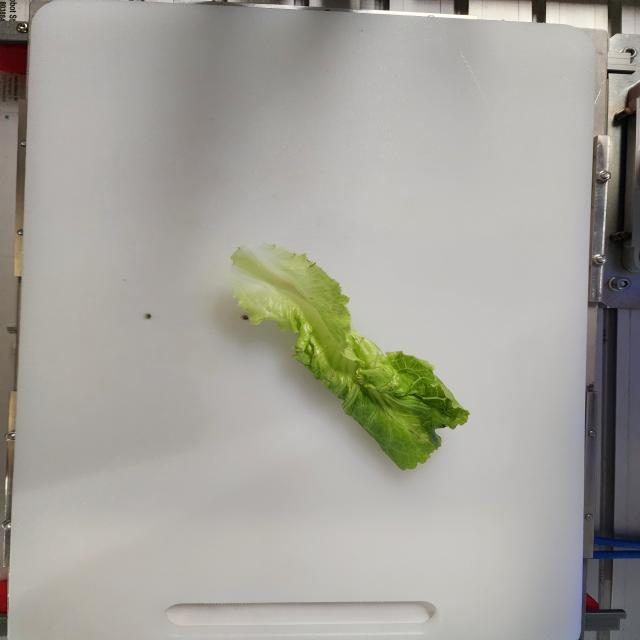lettuce: (227, 242, 470, 471)
